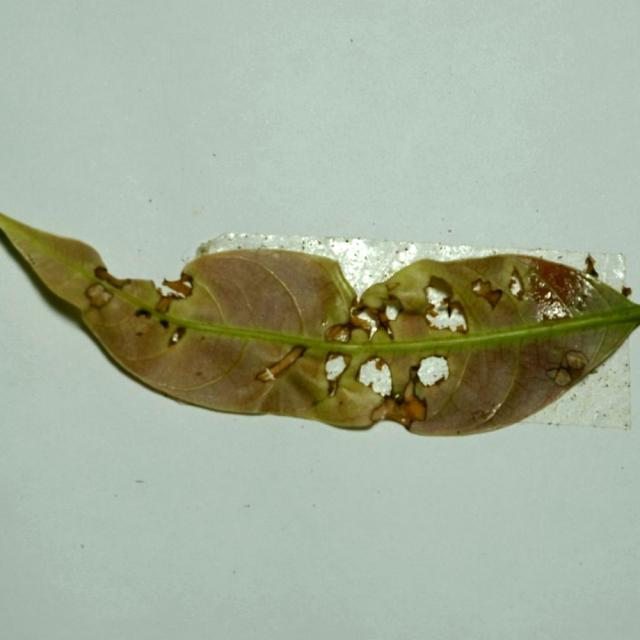Anthracnose: (254, 347, 305, 383), (153, 274, 193, 315), (414, 355, 450, 388), (471, 276, 505, 310), (349, 305, 382, 339), (424, 275, 456, 306), (381, 398, 415, 427), (159, 321, 193, 349), (93, 265, 130, 289), (376, 301, 399, 339), (130, 310, 160, 338), (85, 282, 114, 308), (447, 300, 468, 332), (508, 267, 527, 301), (427, 309, 456, 331), (405, 363, 422, 396), (370, 399, 392, 424), (324, 323, 350, 344), (565, 349, 589, 371), (383, 296, 403, 318), (552, 368, 572, 387), (424, 302, 445, 320), (584, 254, 599, 279), (155, 295, 173, 314), (471, 277, 489, 295), (471, 407, 491, 423), (255, 369, 275, 383), (539, 314, 563, 325), (484, 402, 500, 417), (134, 308, 152, 320), (327, 379, 338, 398), (398, 244, 414, 254), (621, 285, 633, 298), (573, 295, 585, 308), (197, 244, 211, 255), (394, 393, 405, 406), (387, 281, 401, 291), (375, 358, 385, 370), (27, 253, 37, 265), (409, 364, 419, 375), (543, 289, 553, 299), (311, 398, 321, 408), (590, 366, 600, 375), (300, 240, 306, 250), (135, 331, 144, 337), (195, 371, 203, 377), (338, 400, 344, 407), (556, 254, 563, 260), (604, 383, 610, 388), (237, 245, 243, 250), (456, 429, 461, 435)
Mango: (0, 214, 639, 440)
